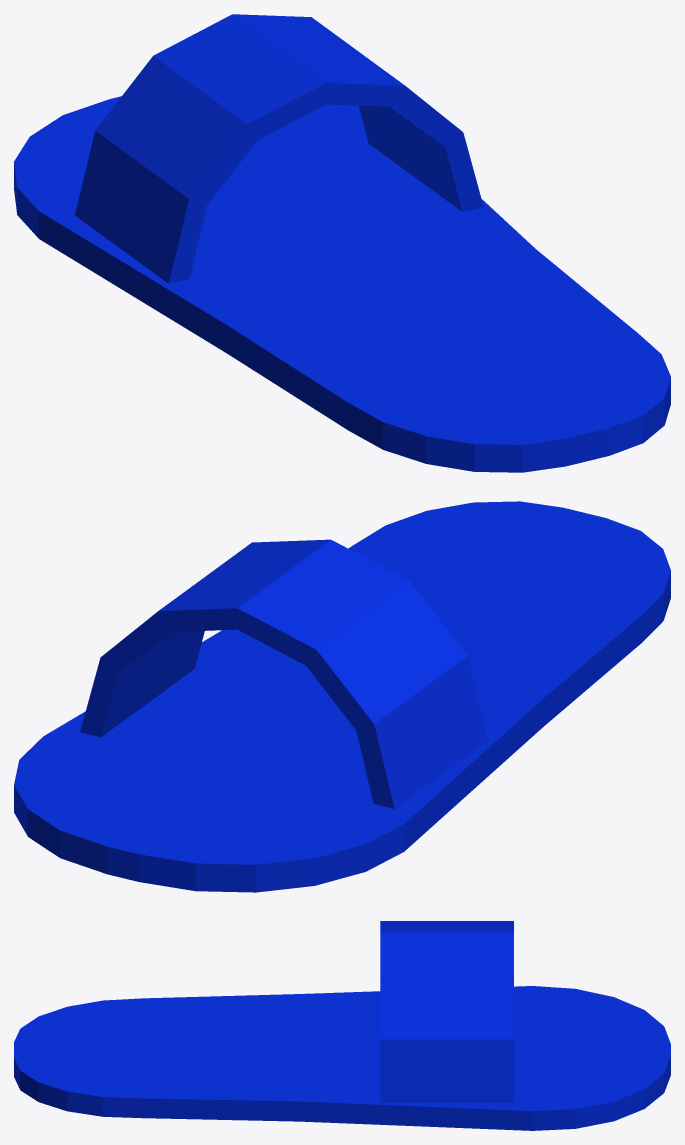
Rendered from Slippers.fbx.
3 views of the same model, one above another, from view 1: azimuth 30°, elevation 25°; view 2: azimuth 150°, elevation 25°; view 3: azimuth 270°, elevation 25° (orthographic). The views are drawn at different scales.
Parts seen in each view (by area): view 1: Slippers; view 2: Slippers; view 3: Slippers.
Part boxes in pixels (x1,y1,x2,y2): Slippers: (14, 14, 670, 472); Slippers: (14, 501, 670, 892); Slippers: (14, 921, 670, 1130).
Size of the model in its own units: 23.52 by 11.88 by 52.13.
